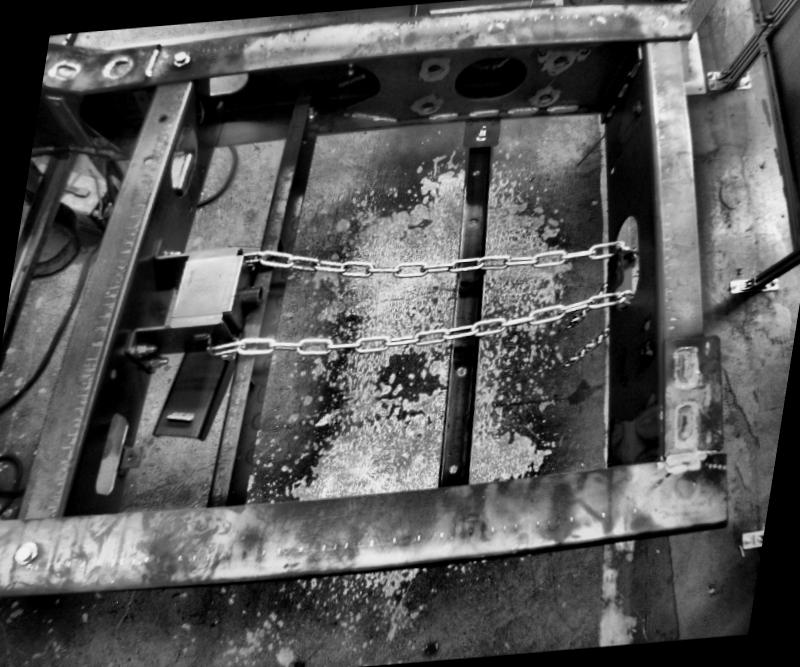bolt: (168, 42, 196, 69), (132, 339, 158, 356), (640, 339, 660, 360), (146, 352, 168, 368), (302, 101, 322, 117), (476, 118, 490, 140), (162, 243, 180, 257), (634, 98, 644, 113)
bracket: (604, 240, 632, 290), (116, 442, 144, 474)
hole: (449, 50, 534, 102), (91, 402, 126, 502), (166, 119, 198, 204), (424, 57, 445, 73), (420, 97, 438, 111), (552, 54, 569, 67), (456, 362, 470, 376), (539, 89, 555, 101), (467, 214, 479, 227), (108, 364, 119, 378), (643, 316, 655, 328), (449, 462, 460, 474), (140, 154, 152, 164), (158, 109, 168, 120), (472, 166, 481, 175), (127, 452, 137, 460)
welding: (602, 99, 618, 115), (630, 56, 644, 74), (615, 82, 631, 95)
